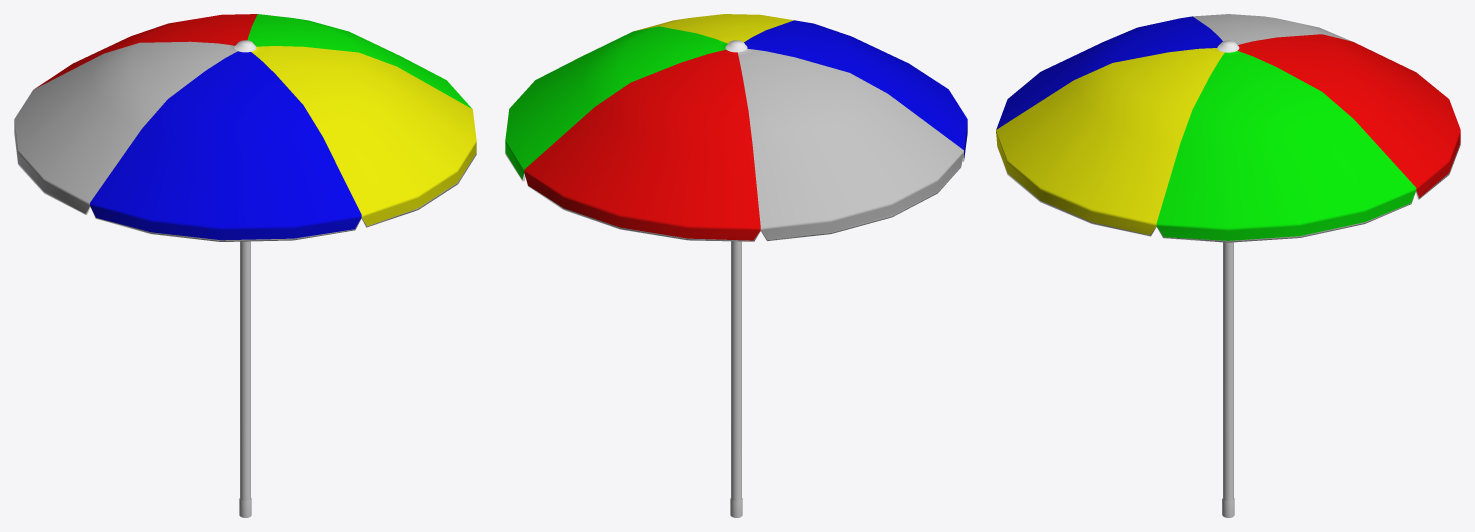
File: SM_Parasol01.fbx
3 views of the same model, side by side, from view 1: azimuth 30°, elevation 25°; view 2: azimuth 150°, elevation 25°; view 3: azimuth 270°, elevation 25° (orthographic).
Parts seen in each view (by area): view 1: polySurface2; view 2: polySurface2; view 3: polySurface2.
Part boxes in pixels (x1,y1,x2,y2): polySurface2: (14,14,476,517); polySurface2: (505,14,967,517); polySurface2: (996,14,1460,517).
Size of the model in its own units: 2.41 by 2.7 by 2.41.
